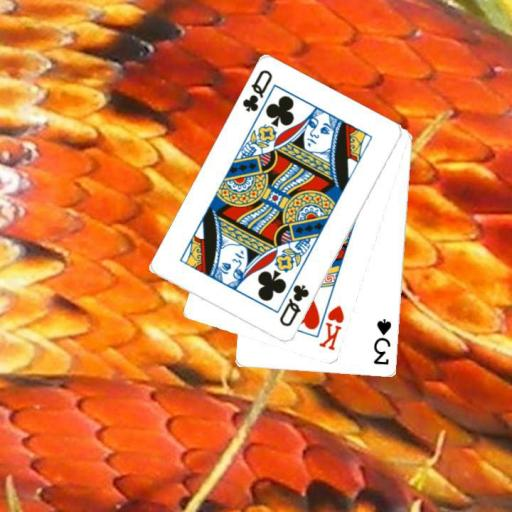3S: (371, 316, 394, 367)
KH: (316, 302, 346, 353)
QC: (276, 282, 311, 329), (239, 67, 274, 114)
